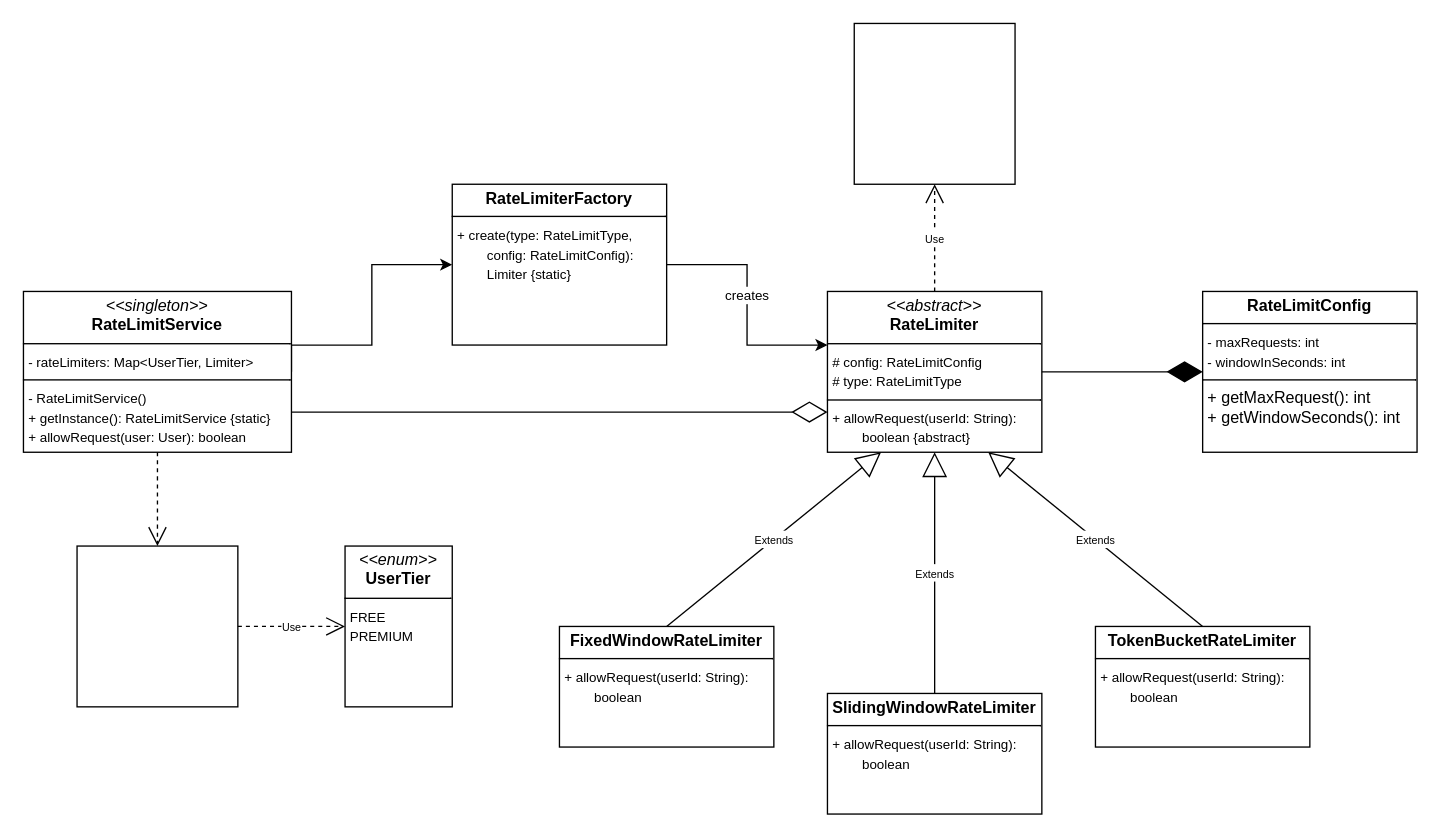
The diagram is 1441 pixels wide and 838 high, and some of its shapes have lost their labels. The centre of each missing label's shape, as x and y in pixels:
"<<enum>> RateLimitType FIXED WINDOW SLIDING WINDOW TOKEN BUCKET" goes at point 934,103.
"User - id: string - tier: UserTier + getUserId(): String + getUserTier: UserTier" goes at point 157,626.
